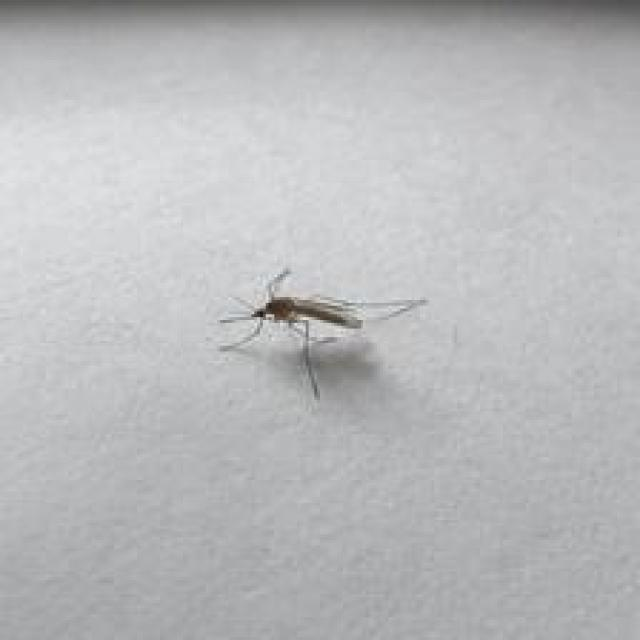Culex: (217, 266, 429, 400)
